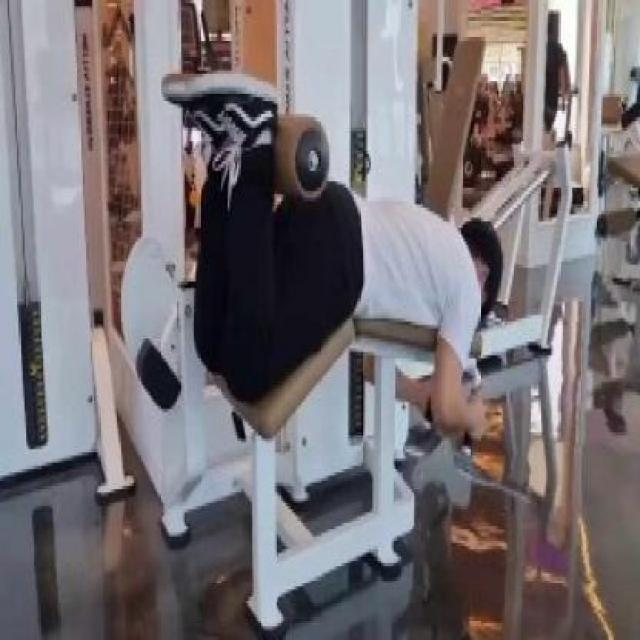reg curl machine: (151, 0, 574, 640)
